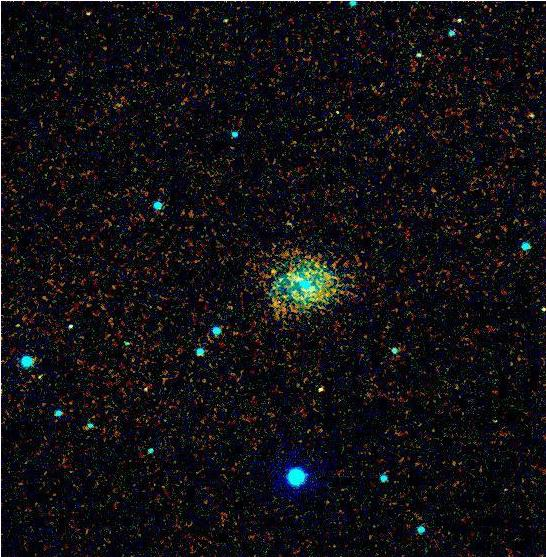star: (256, 256, 286, 286)
